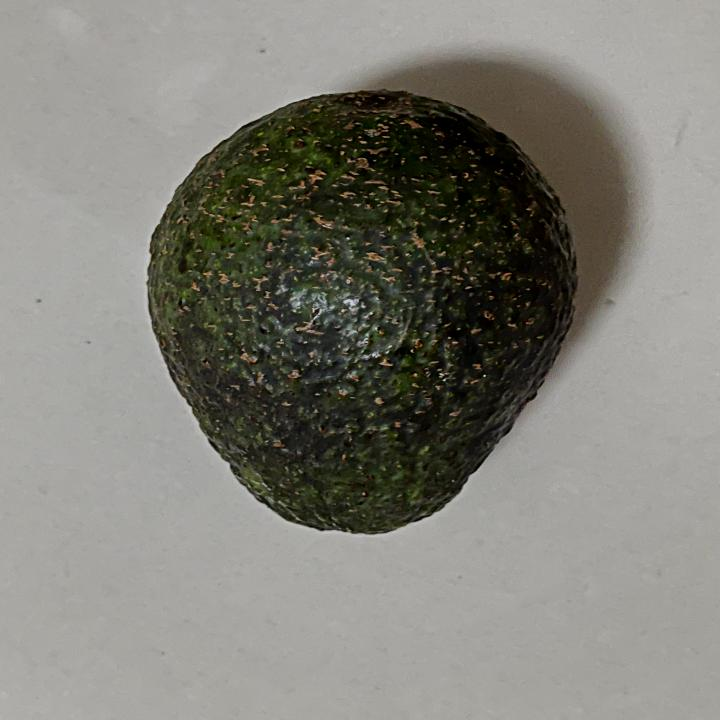Level1: (131, 78, 592, 550)
